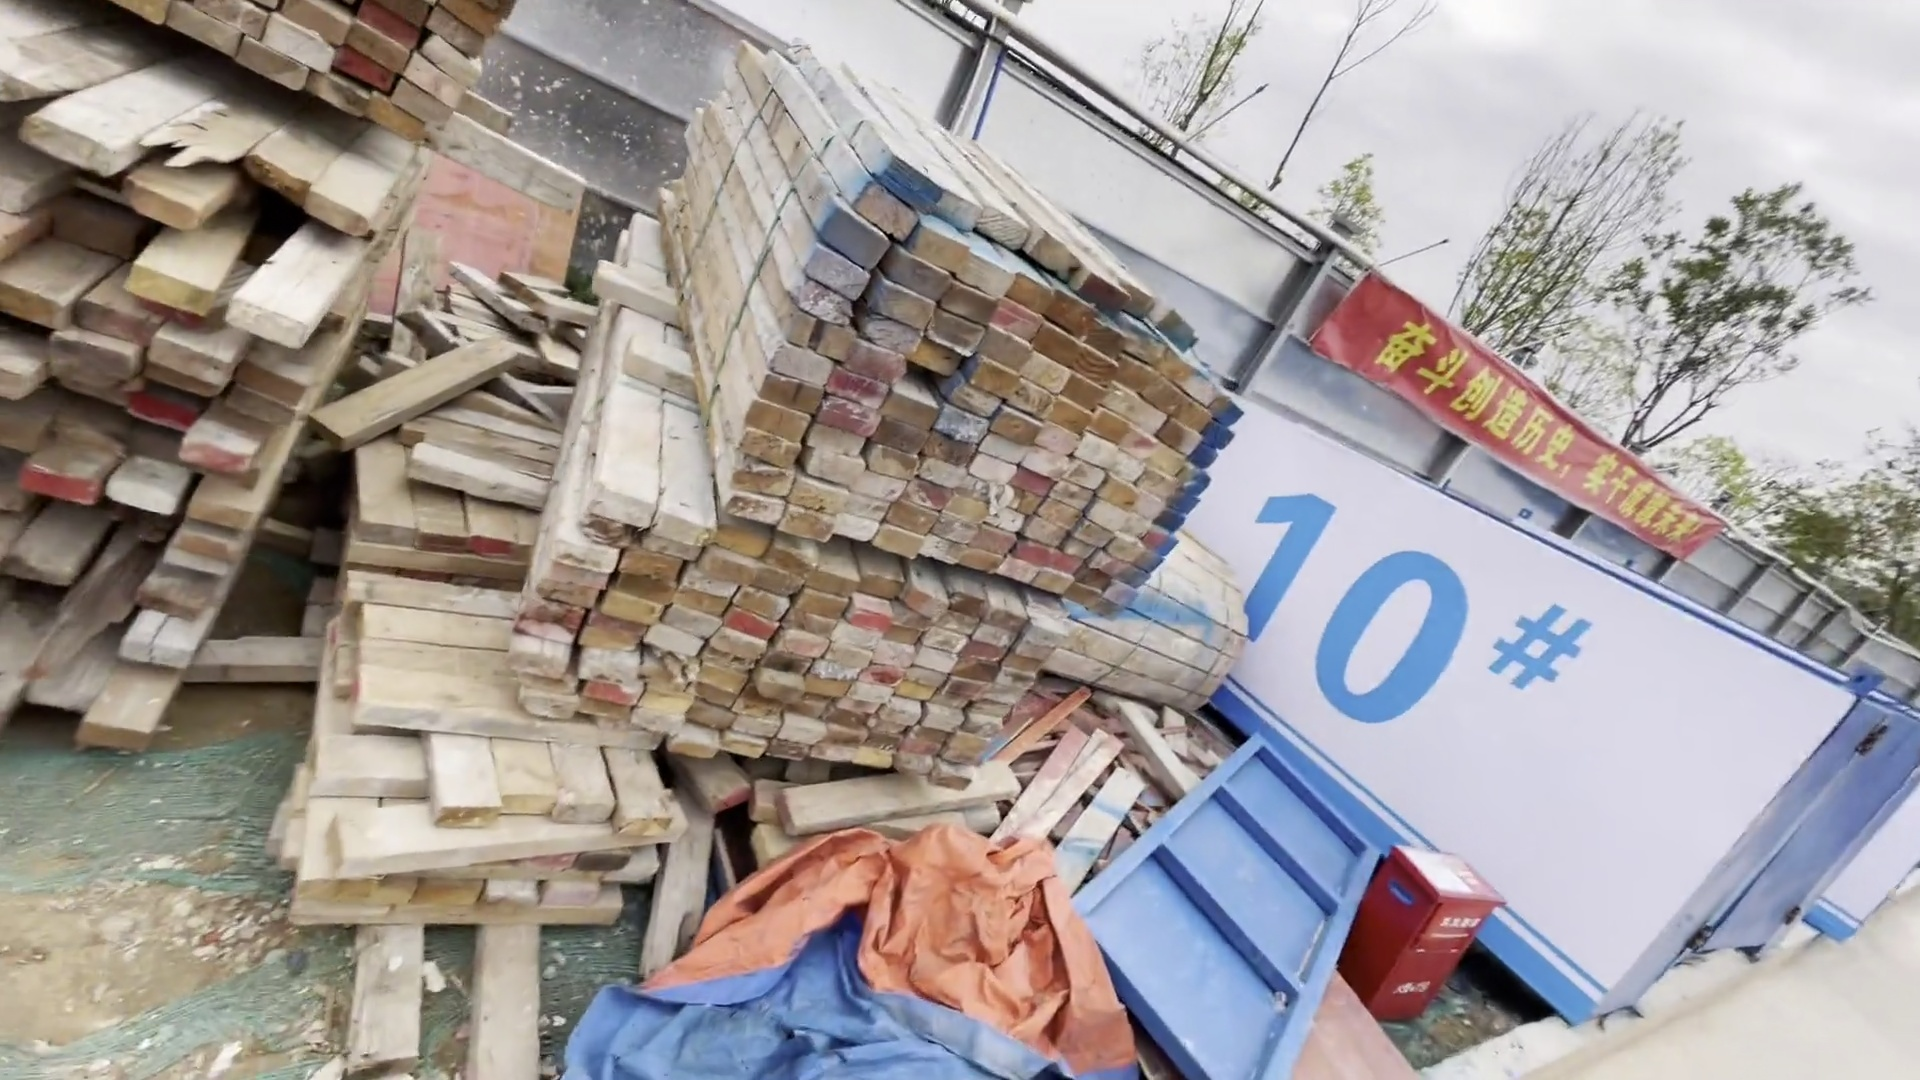slogan: (1304, 228, 1729, 567)
wood: (624, 17, 1236, 782), (8, 1, 351, 781), (347, 310, 663, 914)
